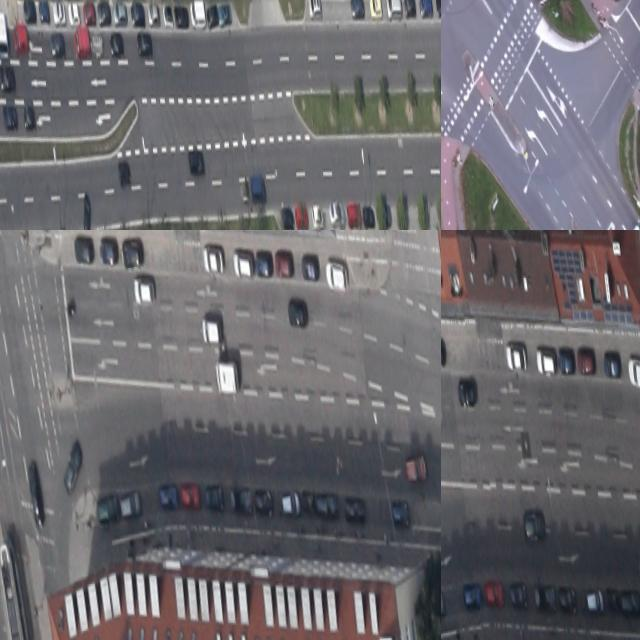UAI: (58, 436, 87, 498), (26, 460, 46, 530), (228, 485, 252, 520), (324, 258, 349, 291), (343, 493, 367, 526), (522, 510, 546, 543), (72, 232, 95, 265), (286, 294, 309, 327), (314, 491, 339, 520), (95, 495, 119, 524), (533, 584, 557, 613), (273, 248, 295, 279), (132, 275, 156, 303), (405, 453, 428, 482), (77, 191, 94, 230), (300, 252, 321, 283), (118, 491, 141, 519), (456, 376, 478, 405), (204, 483, 224, 514), (601, 348, 621, 379), (509, 580, 529, 611), (201, 316, 223, 344), (232, 251, 254, 279), (505, 343, 527, 371), (11, 22, 29, 56), (158, 483, 179, 512), (180, 482, 201, 511), (279, 489, 300, 518), (558, 585, 577, 617), (72, 26, 90, 59), (121, 239, 142, 267), (535, 348, 556, 376), (253, 489, 273, 518), (576, 345, 596, 374), (556, 345, 576, 374), (462, 582, 482, 611), (620, 587, 640, 616), (585, 587, 604, 616), (202, 247, 223, 273), (187, 148, 205, 178), (390, 499, 410, 526), (484, 581, 504, 608), (135, 29, 153, 58), (99, 237, 118, 264), (0, 62, 16, 94), (300, 486, 316, 518), (626, 354, 640, 390), (249, 175, 266, 204), (49, 31, 66, 59), (254, 252, 272, 278), (1, 105, 18, 132), (328, 200, 345, 227), (345, 201, 362, 228), (188, 0, 205, 27), (129, 0, 146, 27), (108, 31, 124, 58), (310, 200, 324, 230), (605, 587, 620, 615), (21, 104, 36, 131), (280, 203, 295, 230), (173, 3, 189, 28), (384, 0, 402, 22), (117, 160, 131, 187), (294, 204, 309, 229), (217, 1, 232, 26), (112, 2, 127, 27), (96, 1, 111, 26), (51, 0, 66, 25), (82, 0, 96, 26), (91, 33, 104, 60), (361, 203, 375, 228), (146, 2, 160, 27), (67, 0, 80, 26), (22, 0, 36, 24), (206, 3, 219, 28), (348, 0, 364, 19), (36, 0, 49, 23), (161, 2, 172, 27), (417, 0, 432, 18), (239, 181, 250, 204), (306, 0, 320, 18), (402, 0, 416, 17), (367, 0, 381, 17), (441, 335, 446, 368), (434, 0, 441, 18)
car: (0, 2, 9, 61)
harvester: (214, 357, 240, 398)
